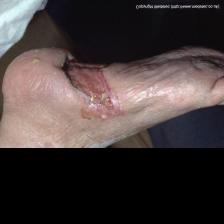Wound: (54, 47, 126, 122)
